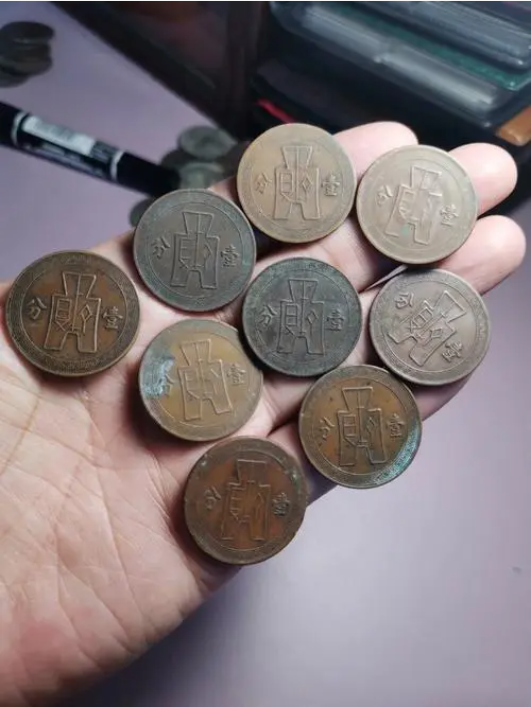coin: (5, 249, 140, 381), (129, 184, 259, 315), (178, 438, 305, 565), (366, 264, 493, 387), (301, 367, 425, 492), (142, 317, 267, 440), (232, 120, 355, 245), (356, 142, 480, 264), (242, 255, 364, 378)
